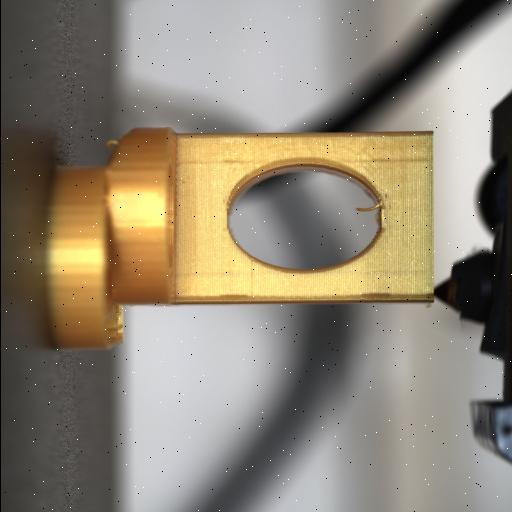layer_shift: (94, 130, 132, 352)
